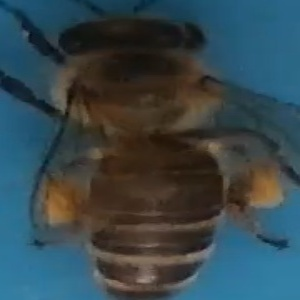bee: (8, 2, 297, 300)
